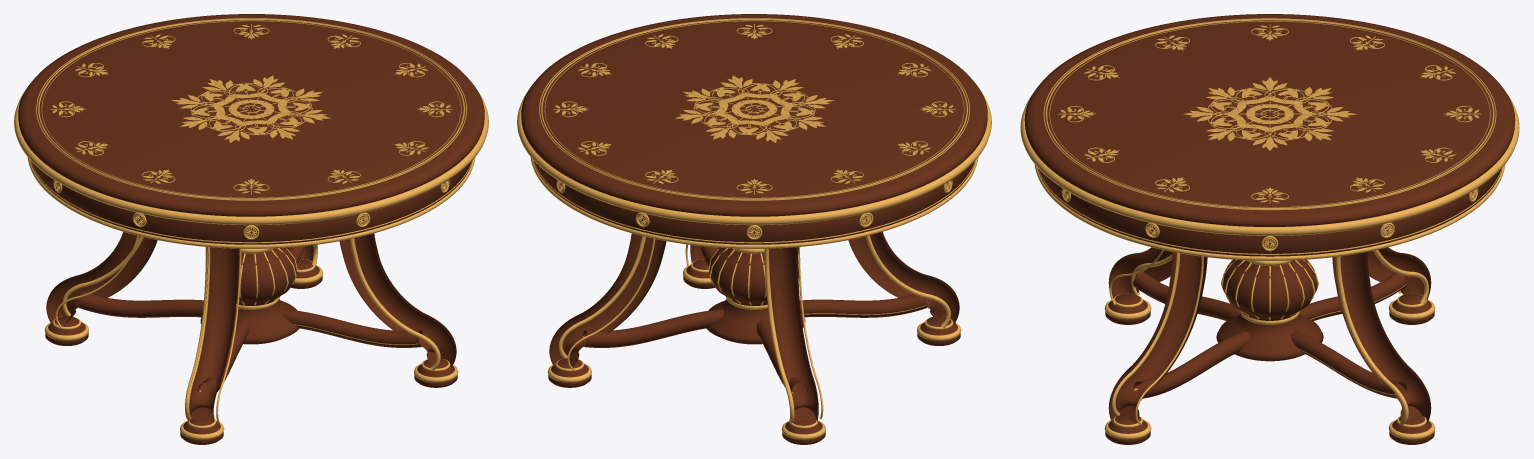
The model's file is OrnateTable.fbx.
The picture shows the model from 3 angles, left to right: view 1: azimuth 30°, elevation 25°; view 2: azimuth 150°, elevation 25°; view 3: azimuth 270°, elevation 25°; orthographic projection. The views are drawn at different scales.
Parts seen in each view (by area): view 1: OrnateTable_FBXTmp; view 2: OrnateTable_FBXTmp; view 3: OrnateTable_FBXTmp.
Part boxes in pixels (x1,y1,x2,y2): OrnateTable_FBXTmp: (14,14,488,444); OrnateTable_FBXTmp: (517,14,991,444); OrnateTable_FBXTmp: (1020,14,1519,444).
Bounding box in the file's own units: 1.86 × 1.08 × 1.86.
